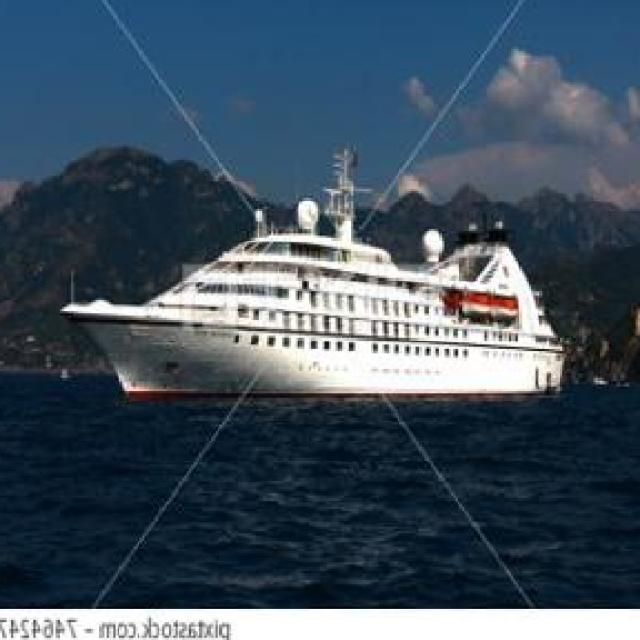passenger ship: (70, 151, 571, 402)
